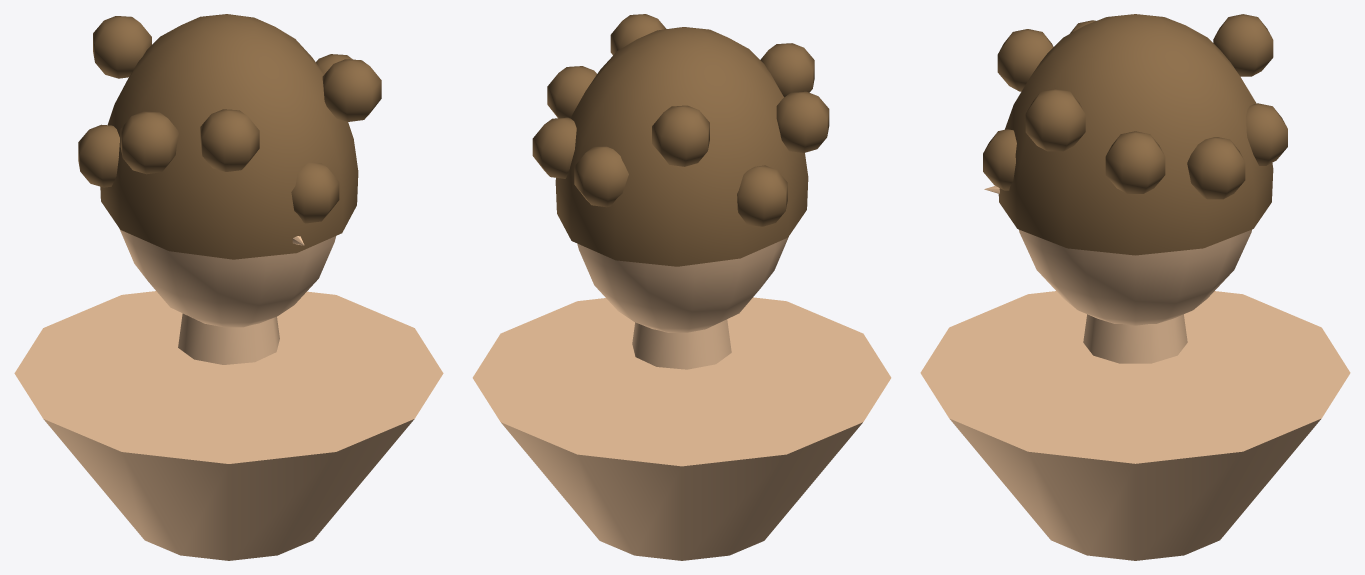
The model's file is raw_001.glb.
3 renders of one model, left to right at view 1: azimuth 30°, elevation 25°; view 2: azimuth 150°, elevation 25°; view 3: azimuth 270°, elevation 25°, orthographic. The views are drawn at different scales.
Size of the model in its own units: 1.73 by 2.21 by 1.73.
